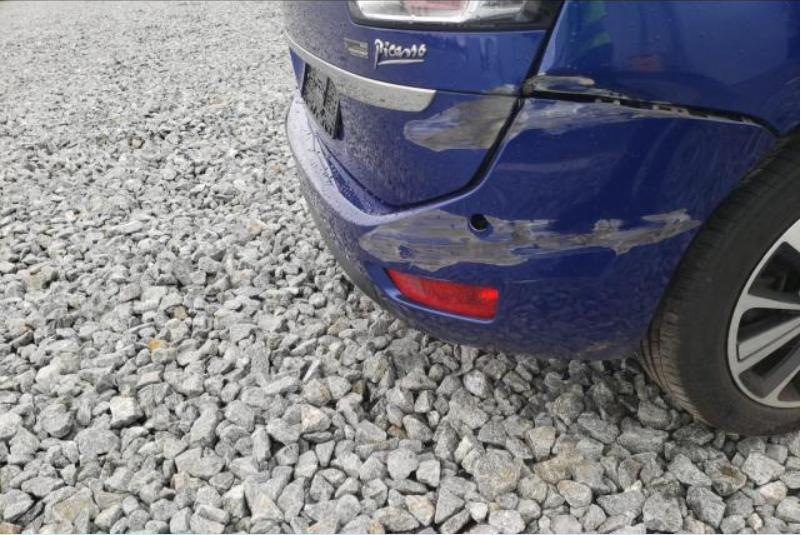Back-bumper: (290, 89, 778, 359)
Back-wheel: (641, 129, 798, 435)
Quarter-panel: (532, 1, 798, 136)
Tail-light: (350, 2, 565, 31)
Trunk: (283, 3, 543, 197)
